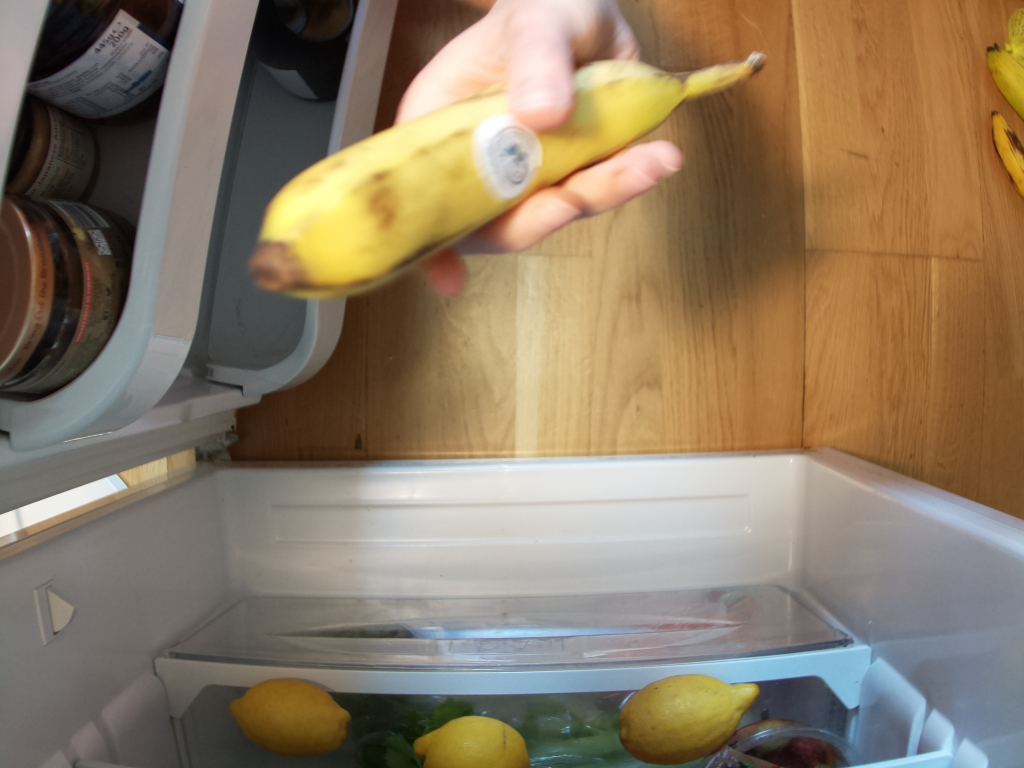banana: (252, 45, 773, 303)
